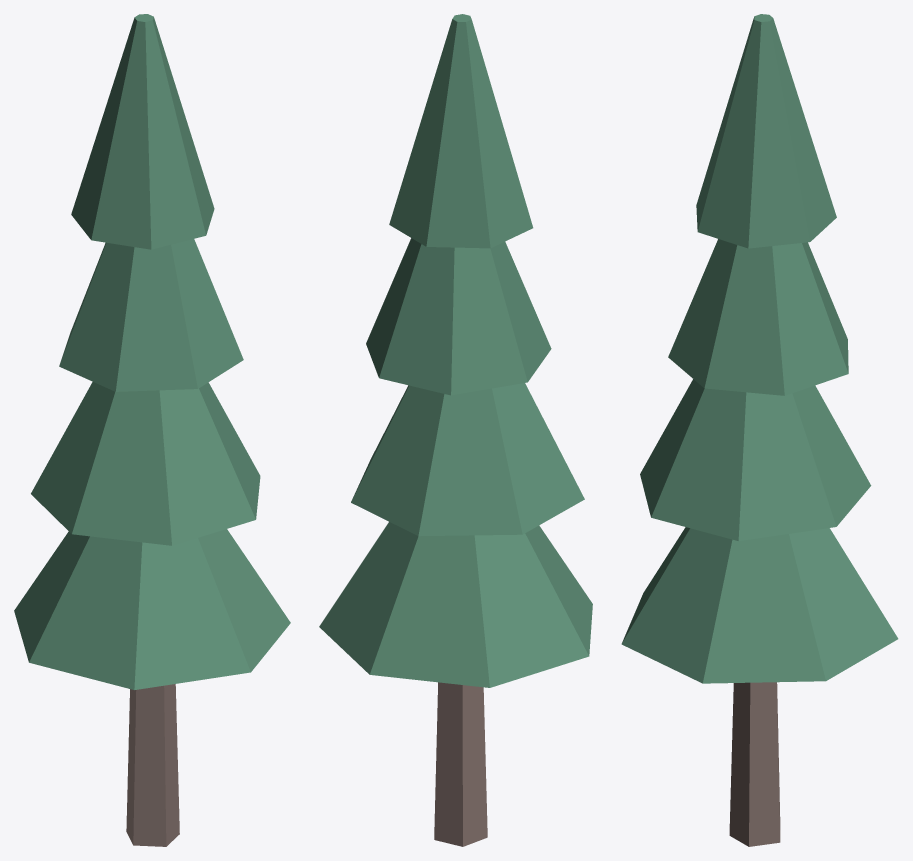
Rendered from arv_pinheiro_5_sem_textura.glb.
3 views of the same model, side by side, from view 1: azimuth 30°, elevation 25°; view 2: azimuth 150°, elevation 25°; view 3: azimuth 270°, elevation 25° (orthographic).
Parts seen in each view (by area): view 1: arv_pinheiro_5; view 2: arv_pinheiro_5; view 3: arv_pinheiro_5.
Boxes of the visible parts, x1=… form: arv_pinheiro_5: x1=14, y1=14, x2=290, y2=846; arv_pinheiro_5: x1=319, y1=14, x2=592, y2=846; arv_pinheiro_5: x1=621, y1=14, x2=898, y2=846.
Bounding box in the file's own units: 0.8243 × 2.72 × 0.8367.
